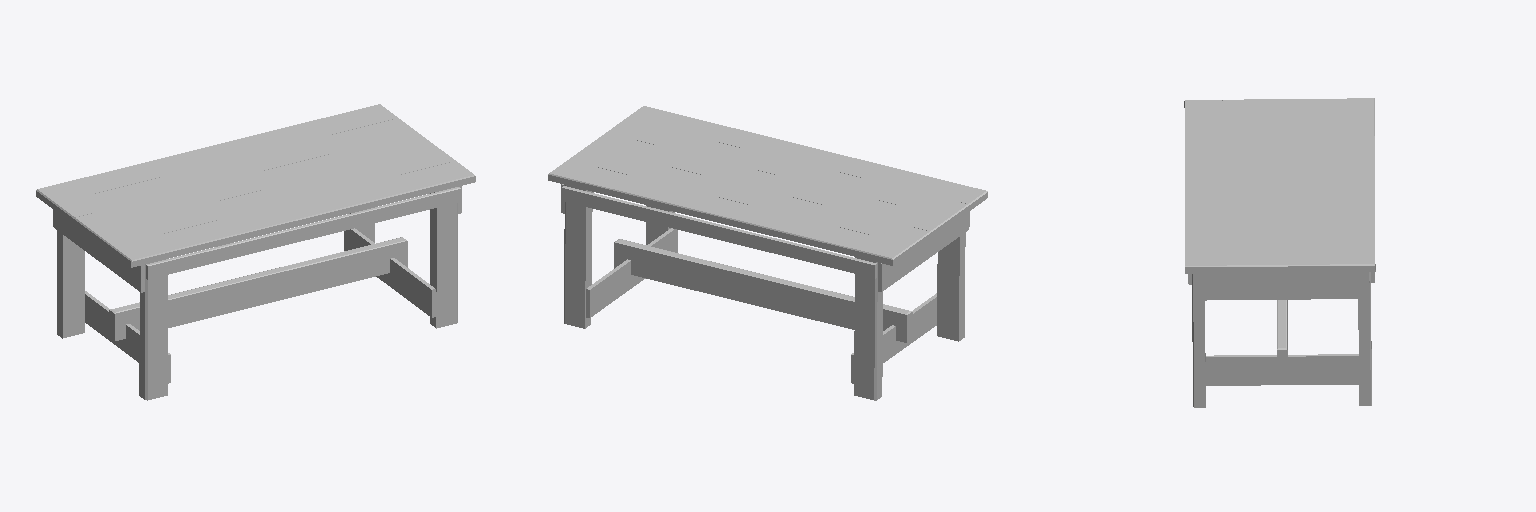
File: wooden_table.obj
3 views of the same model, side by side, from view 1: azimuth 30°, elevation 25°; view 2: azimuth 150°, elevation 25°; view 3: azimuth 270°, elevation 25° (orthographic).
Parts seen in each view (by area): view 1: Table_Top.006, Table_bot.006; view 2: Table_Top.006, Table_bot.006; view 3: Table_Top.006, Table_bot.006.
Part boxes in pixels (bbox=[...]): Table_Top.006: bbox=[36, 104, 475, 267]; Table_bot.006: bbox=[53, 186, 461, 400]; Table_Top.006: bbox=[548, 106, 987, 265]; Table_bot.006: bbox=[561, 184, 969, 400]; Table_Top.006: bbox=[1184, 98, 1375, 273]; Table_bot.006: bbox=[1188, 272, 1374, 407].
Size of the model in its own units: 0.9938 by 0.4159 by 0.4764.